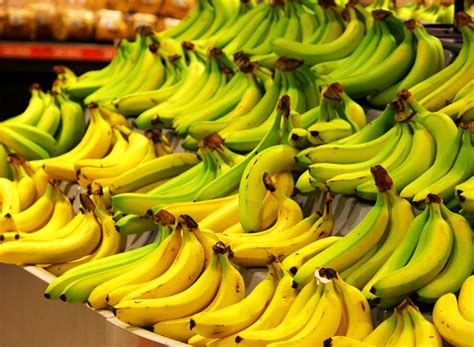banana: (111, 265, 221, 329), (236, 140, 302, 237), (370, 220, 454, 296), (1, 213, 102, 269), (105, 148, 206, 196), (268, 15, 368, 62)
